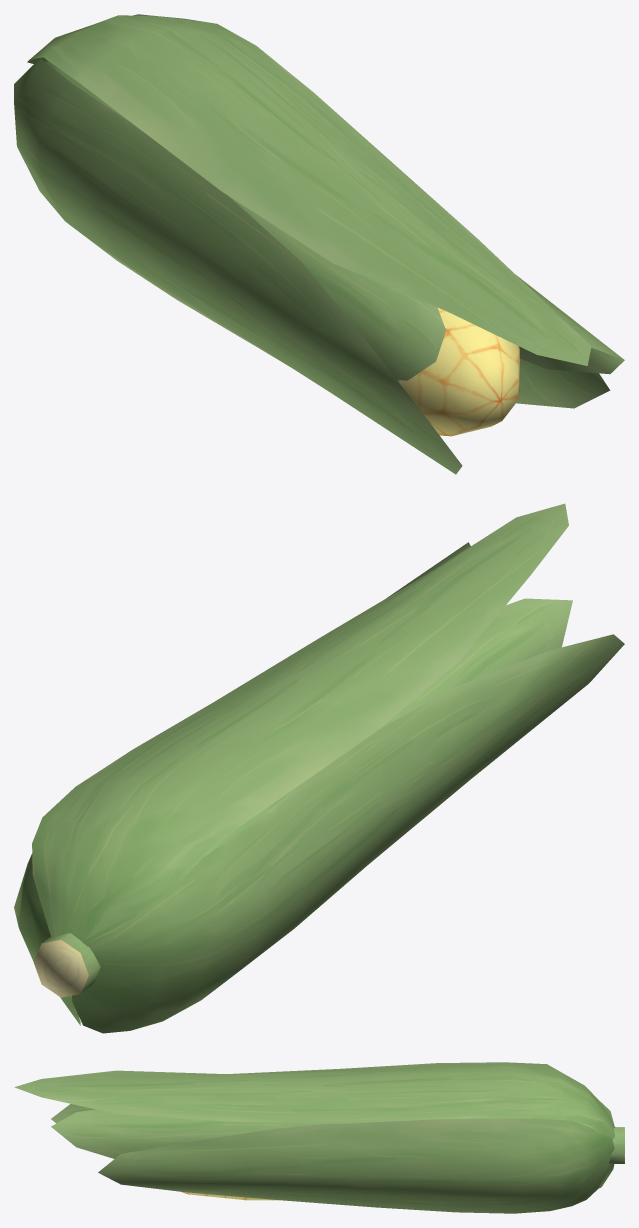
Rendered from handpainted_corn.fbx.
3 views of the same model, one above another, from view 1: azimuth 30°, elevation 25°; view 2: azimuth 150°, elevation 25°; view 3: azimuth 270°, elevation 25° (orthographic). The views are drawn at different scales.
Visible parts, largest first — view 1: Object_2; view 2: Object_2; view 3: Object_2.
Boxes of the visible parts, left/top/right/bottom form: Object_2: left=14, top=14, right=624, bottom=474; Object_2: left=14, top=503, right=624, bottom=1033; Object_2: left=14, top=1062, right=624, bottom=1213.
Size of the model in its own units: 3.11 by 2.74 by 12.03.
Materials: 1 (1 with a texture image).
